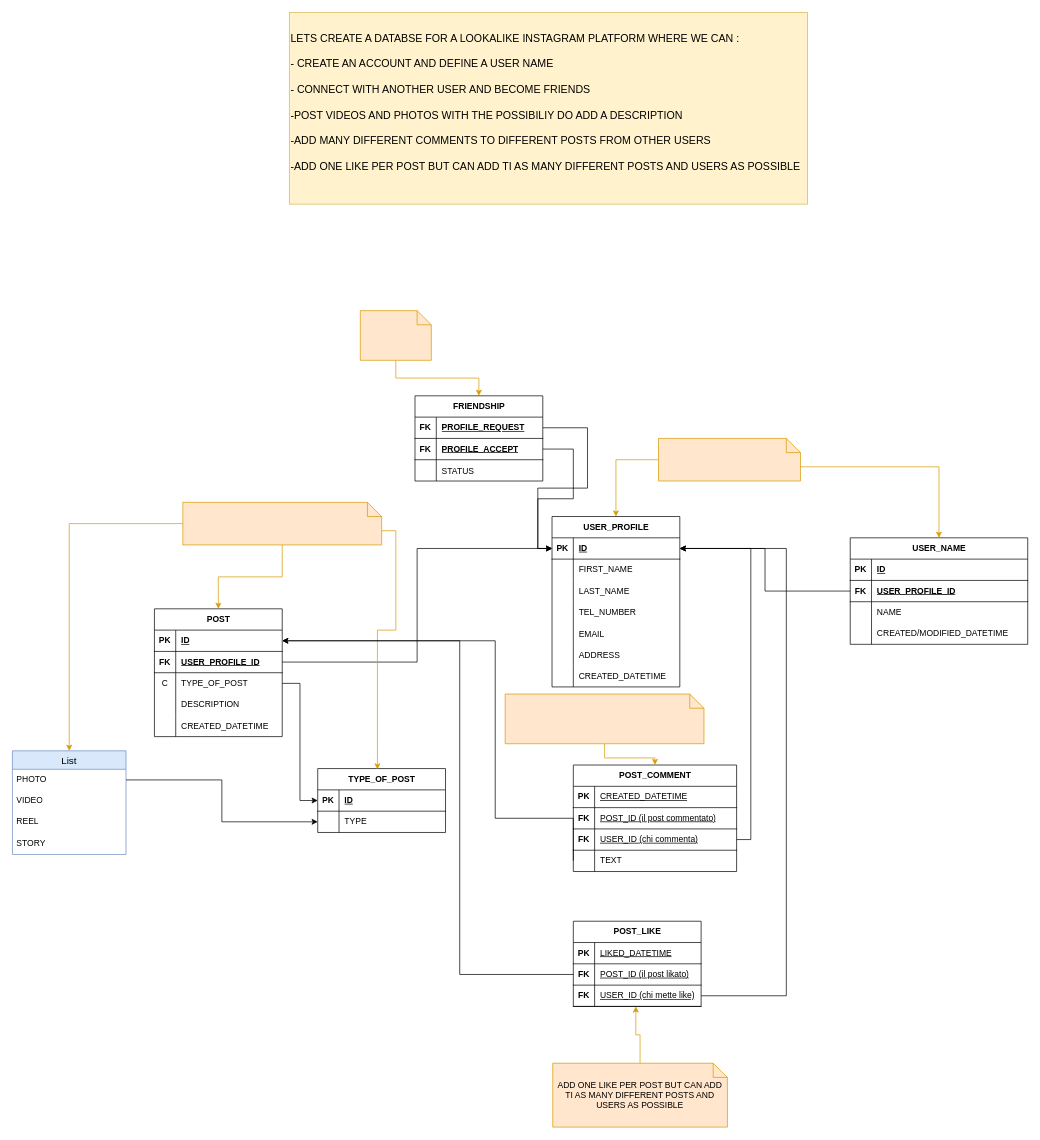
This 1040x1140 diagram has some shape labels left out. Here are the shapes that lost their labels. From the top down, the centre of each, then its label:
pixel 395 335: ADD OTHERS AS FRIENDS
pixel 729 459: CREATE AN ACCOUNT AND DEFINE A USER NAME
pixel 282 523: POST VIDEOS AND PHOTOS WITH THE POSSIBILIY DO ADD A DESCRIPTION
pixel 604 718: ADD MANY DIFFERENT COMMENTS TO DIFFERENT POSTS FROM OTHER USERS
